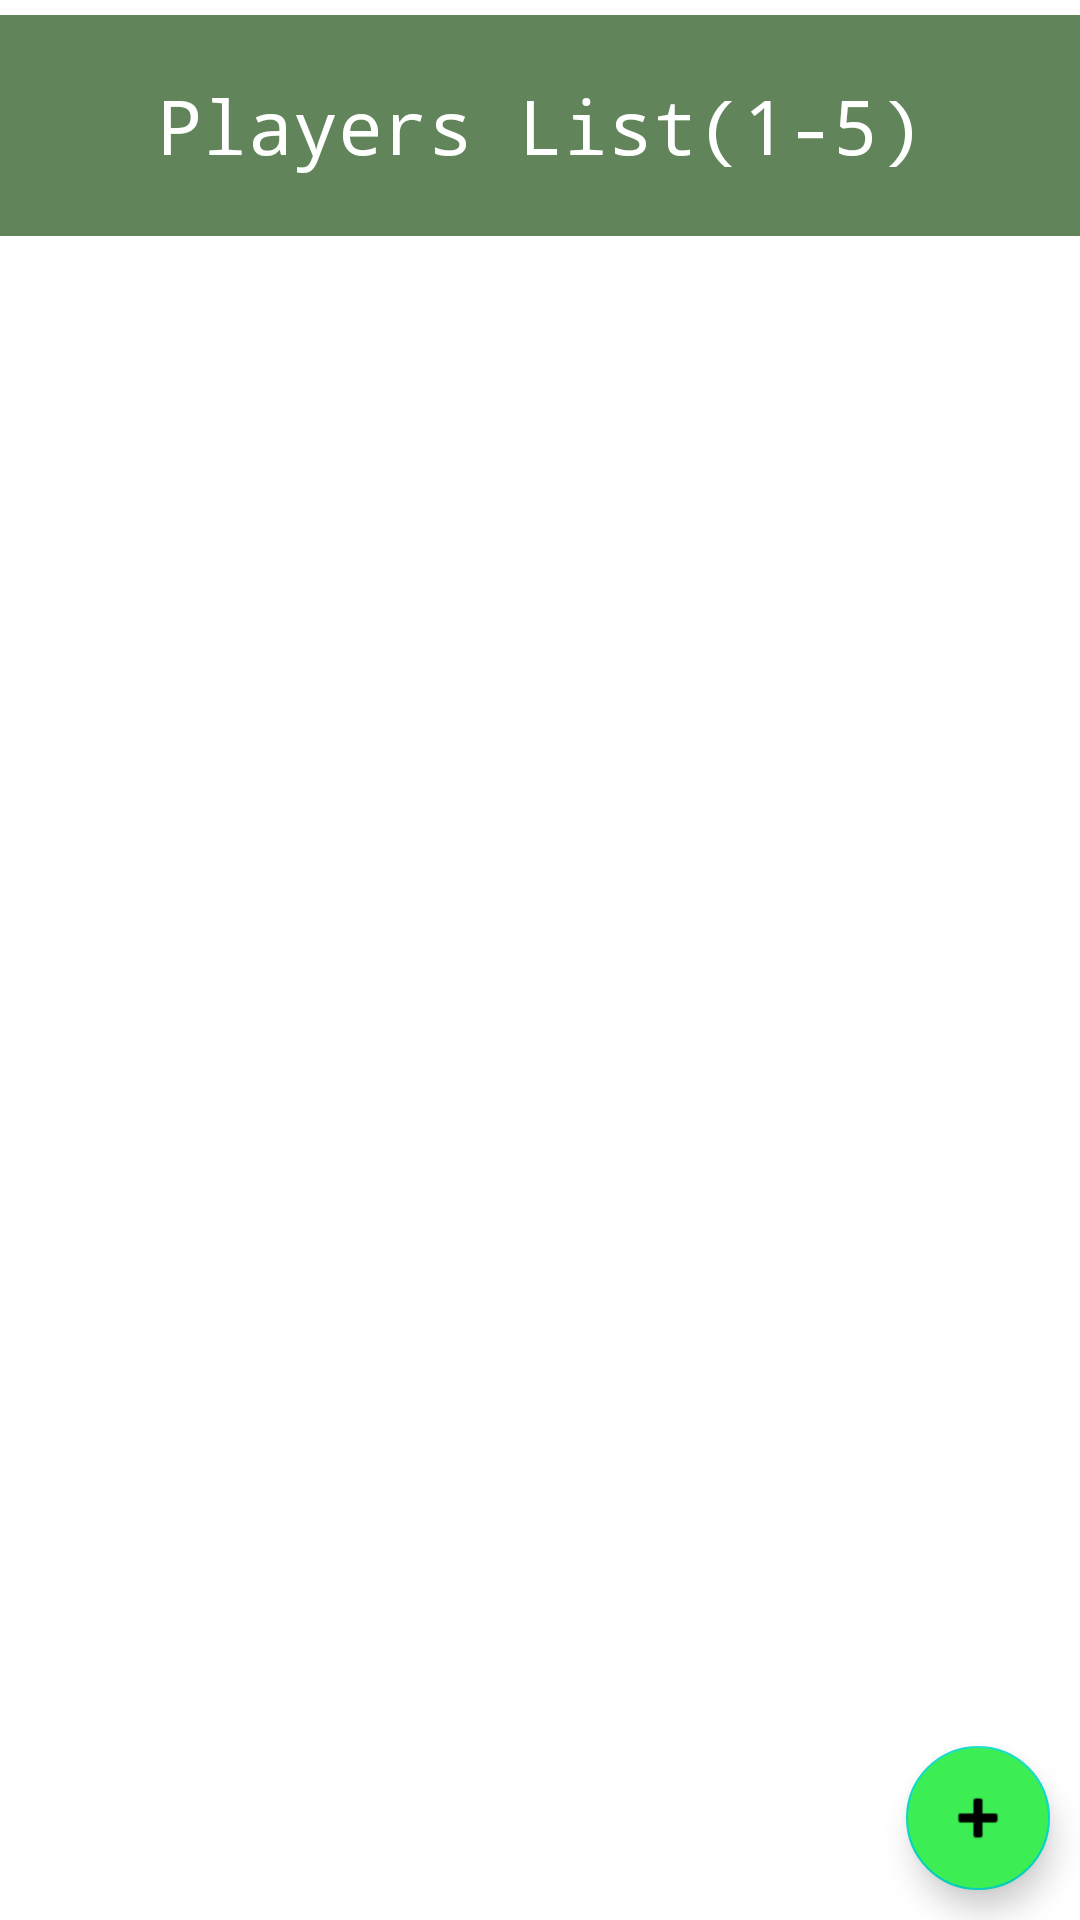

Where to tap for icons on this 1080 x 1920 app screen, as (x=x, y=y):
add: (x=978, y=1818)
